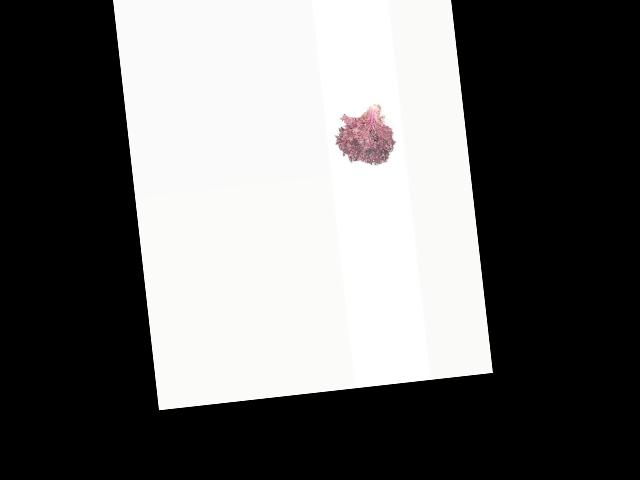lettuce: (329, 96, 395, 172)
